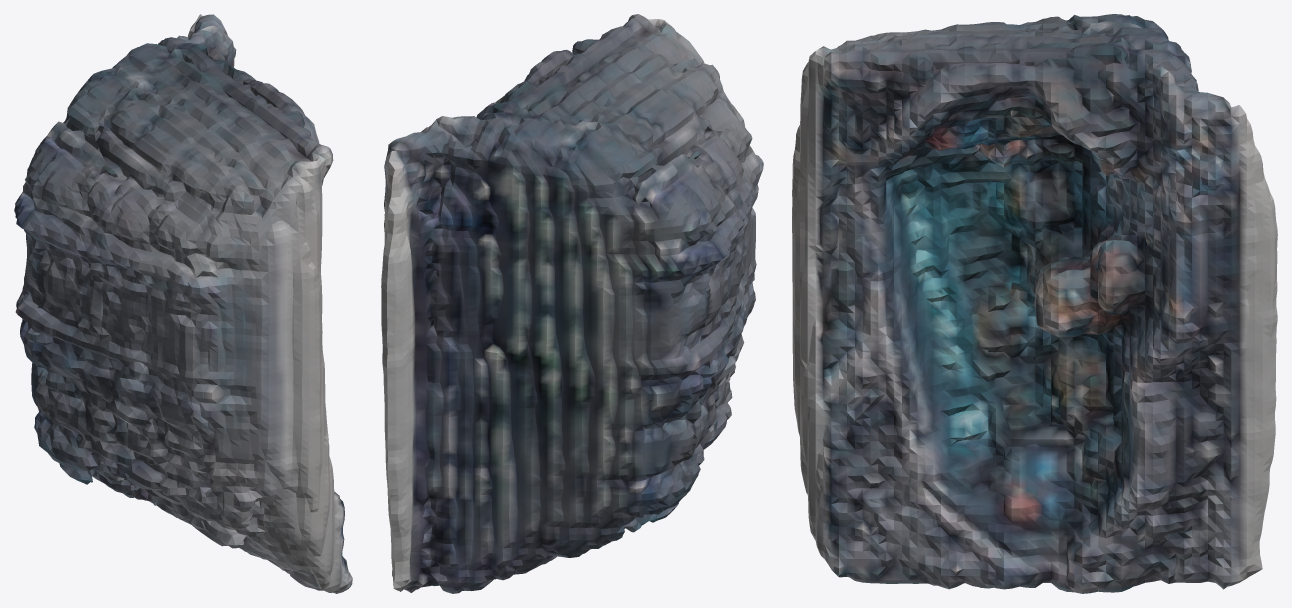
The model's file is building-operations-depot.glb.
3 views of the same model, side by side, from view 1: azimuth 30°, elevation 25°; view 2: azimuth 150°, elevation 25°; view 3: azimuth 270°, elevation 25° (orthographic). The views are drawn at different scales.
Parts seen in each view (by area): view 1: world; view 2: world; view 3: world.
Boxes of the visible parts, <box> form: world: <box>14,14,352,593</box>; world: <box>381,14,763,593</box>; world: <box>792,14,1277,593</box>.
Size of the model in its own units: 0.6327 by 1.01 by 0.8484.
